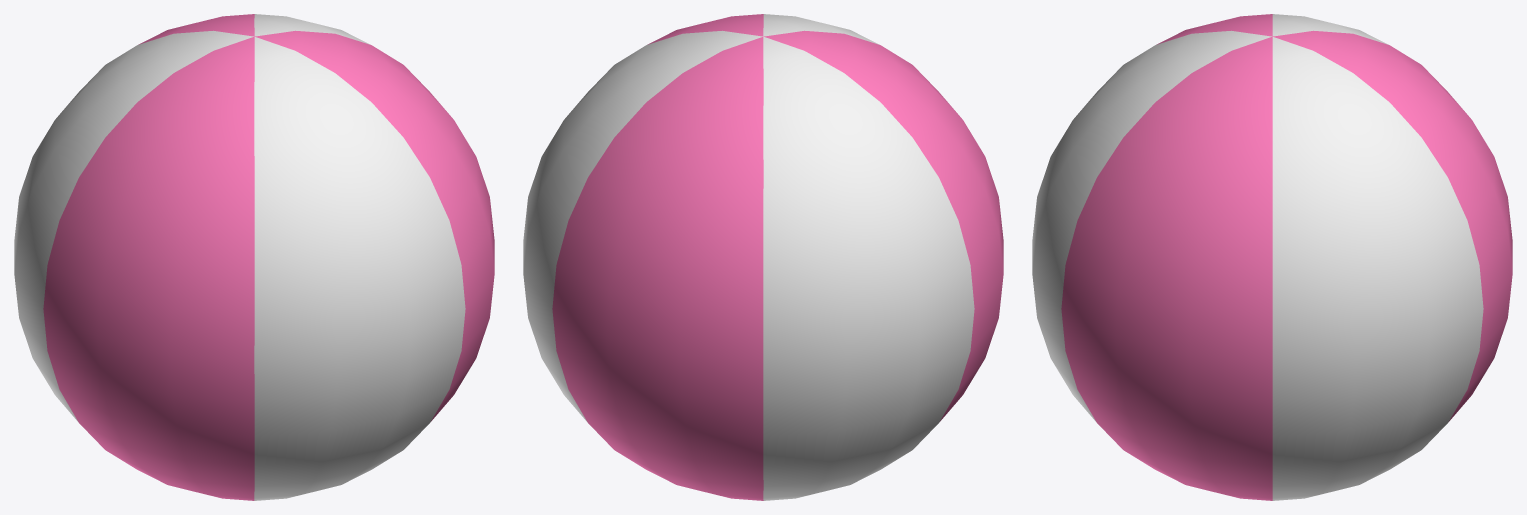
The model's file is Volleyball_Pink.fbx.
The picture shows the model from 3 angles, left to right: view 1: azimuth 30°, elevation 25°; view 2: azimuth 150°, elevation 25°; view 3: azimuth 270°, elevation 25°; orthographic projection.
Parts seen in each view (by area): view 1: Volleyball_Pink; view 2: Volleyball_Pink; view 3: Volleyball_Pink.
Part boxes in pixels (x1,y1,x2,y2): Volleyball_Pink: (14,14,494,500); Volleyball_Pink: (523,14,1003,500); Volleyball_Pink: (1032,14,1512,500).
Bounding box in the file's own units: 96.75 × 96.75 × 95.28.
